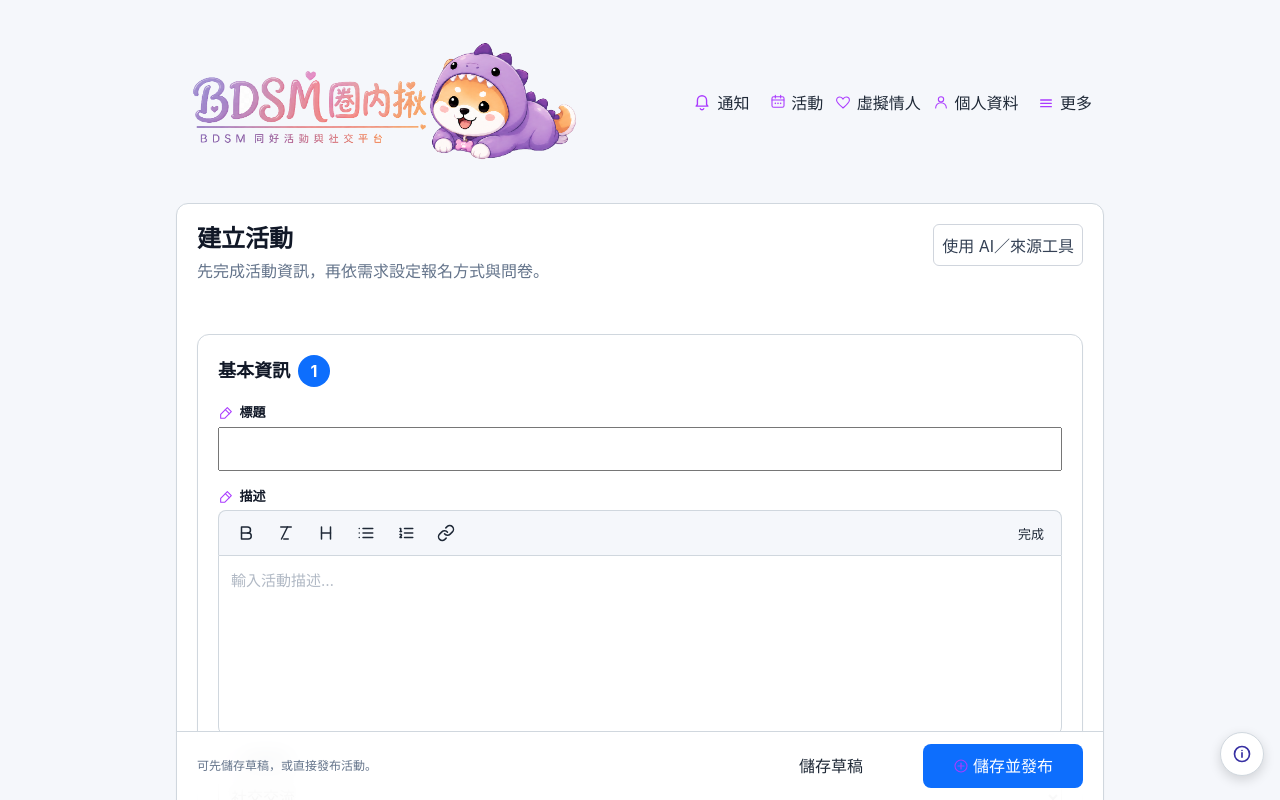
CreateEventPage › disables save-and-publish while an external-source import is still in flight
Expected: the button "儲存並發布" is enabled, x1=923 y1=744 x2=1083 y2=788
Click the button "使用 AI／來源工具": click(1008, 245) x1=933 y1=224 x2=1083 y2=266
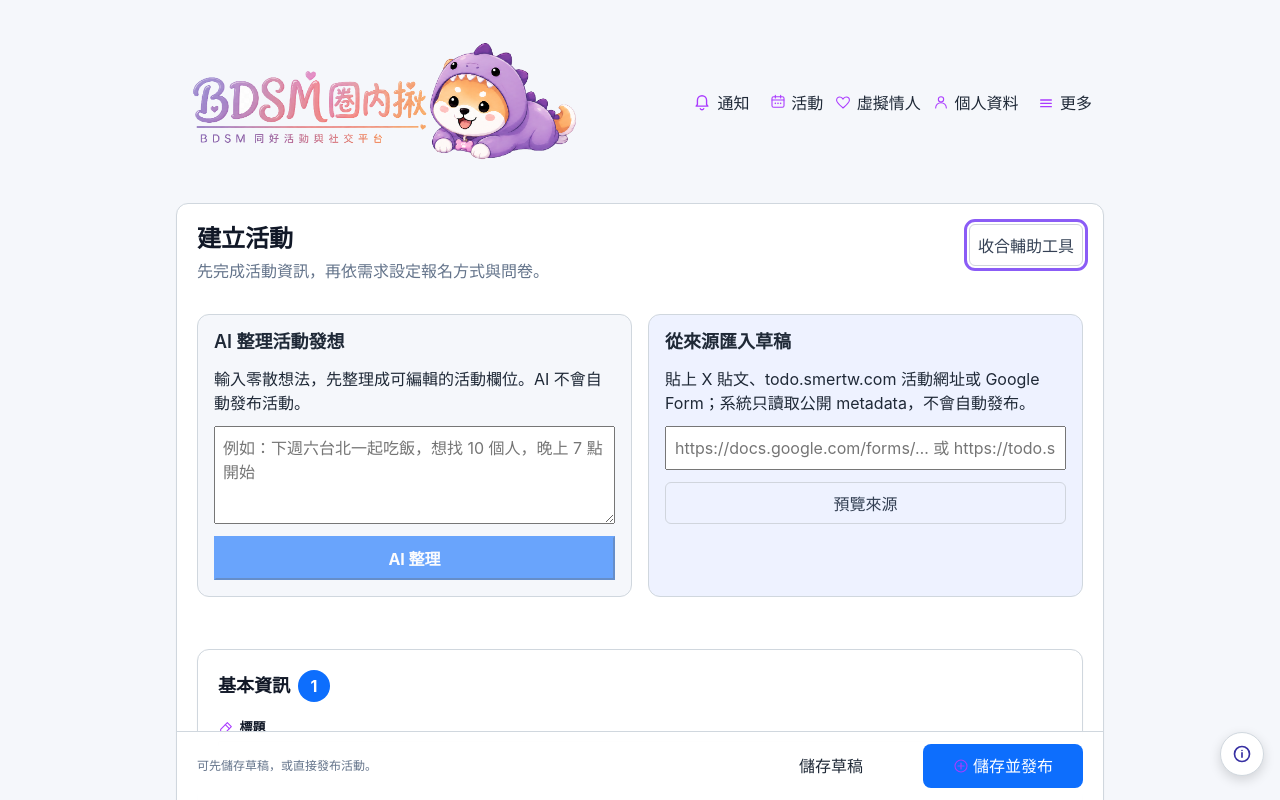
In the field named "公開活動來源網址": (866, 448) x1=665 y1=426 x2=1066 y2=470, type "https://todo.smertw.com/events/6382"
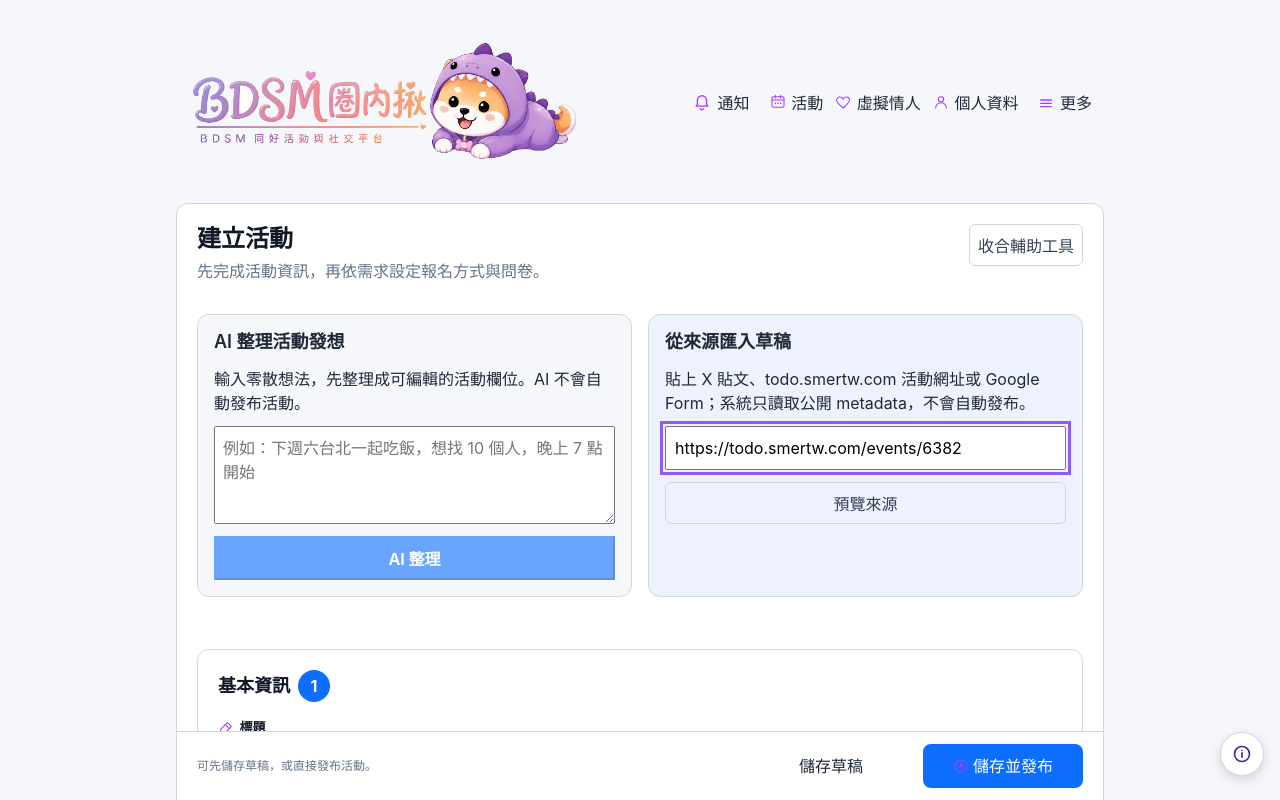
Click the button "預覽來源": click(866, 503) x1=665 y1=482 x2=1066 y2=524
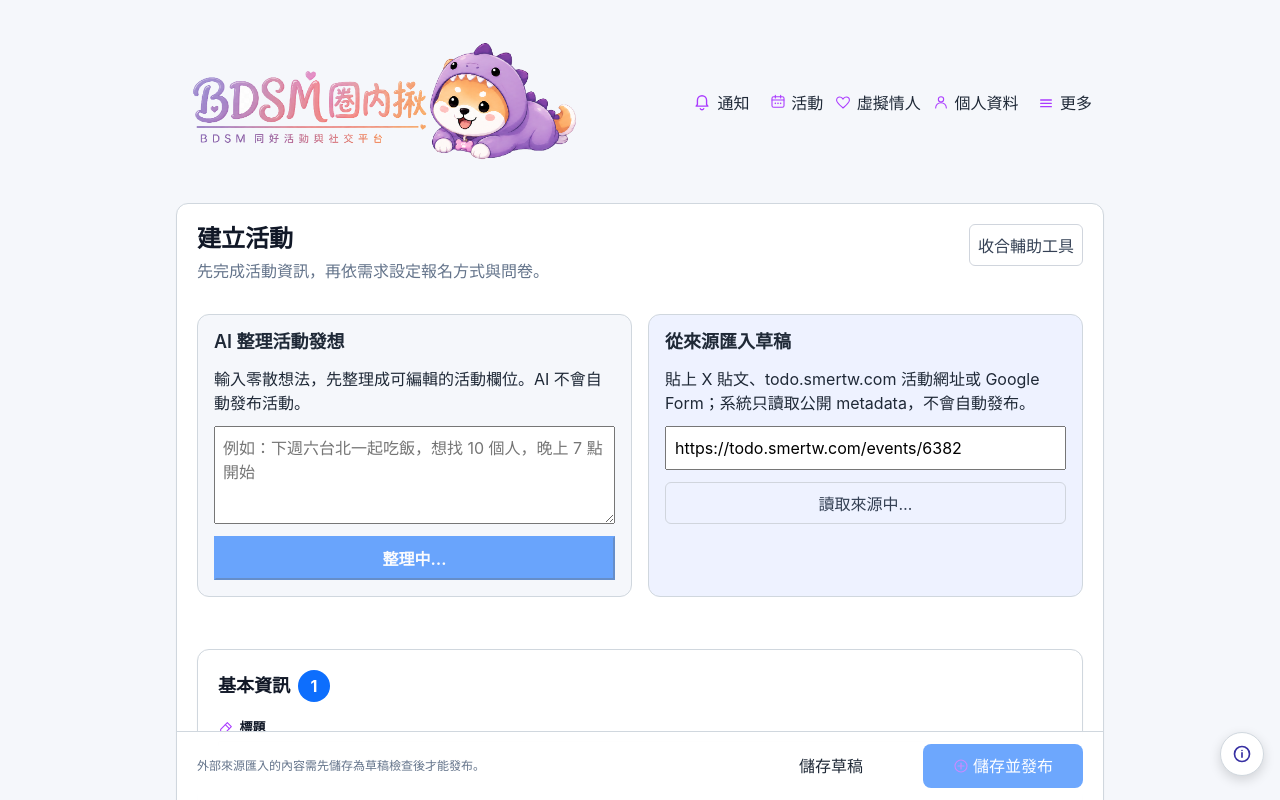
Expected: the button "讀取來源中…" is disabled, x1=665 y1=482 x2=1066 y2=524
Expected: the button "儲存並發布" is disabled, x1=923 y1=744 x2=1083 y2=788
